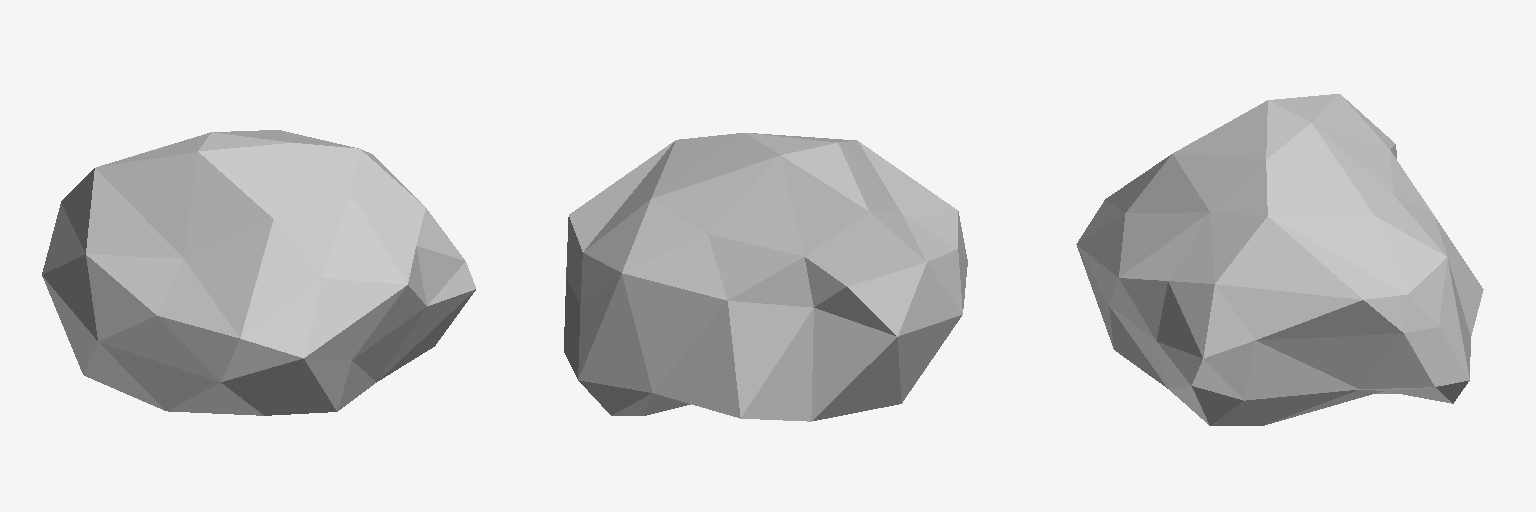
Rendered from Rock_SoilGame.obj.
3 views of the same model, side by side, from view 1: azimuth 30°, elevation 25°; view 2: azimuth 150°, elevation 25°; view 3: azimuth 270°, elevation 25° (orthographic).
Parts seen in each view (by area): view 1: Icosphere; view 2: Icosphere; view 3: Icosphere.
Part boxes in pixels (bbox=[...]): Icosphere: bbox=[42, 130, 475, 415]; Icosphere: bbox=[564, 133, 967, 421]; Icosphere: bbox=[1076, 94, 1483, 425].
Bounding box in the file's own units: 2.03 × 1.37 × 2.03.